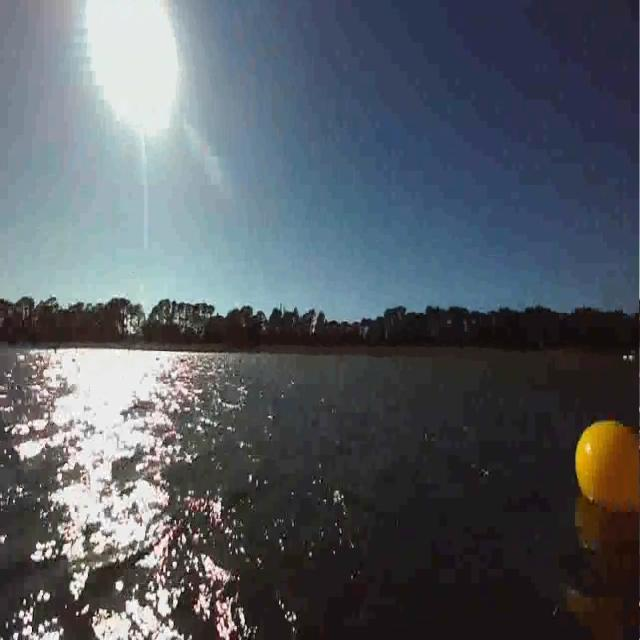yellow-buoy: (575, 419, 640, 512)
